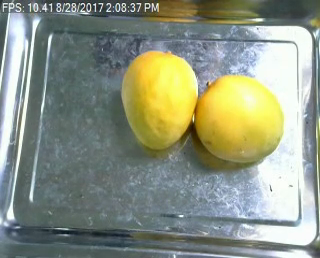Mango: (120, 49, 197, 148), (194, 77, 283, 161)
